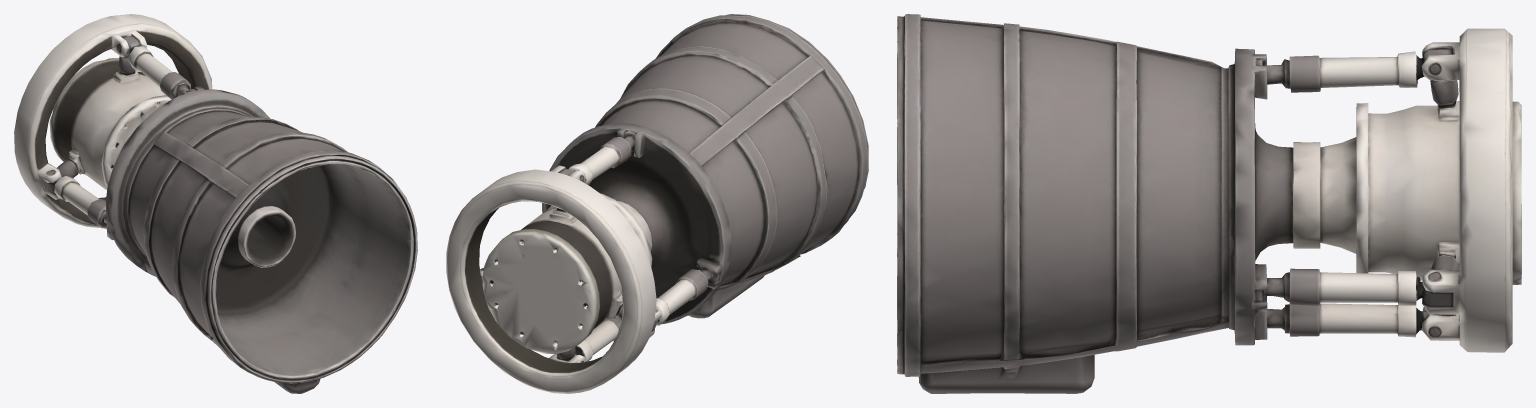
The model's file is bell.glb.
3 renders of one model, left to right at view 1: azimuth 30°, elevation 25°; view 2: azimuth 150°, elevation 25°; view 3: azimuth 270°, elevation 25°, orthographic. The views are drawn at different scales.
Visible parts, largest first — view 1: tripo_node_c430715c-5291-4ae3-b64c-0a46b896a1e6; view 2: tripo_node_c430715c-5291-4ae3-b64c-0a46b896a1e6; view 3: tripo_node_c430715c-5291-4ae3-b64c-0a46b896a1e6.
Boxes of the visible parts, bbox=[...] form: tripo_node_c430715c-5291-4ae3-b64c-0a46b896a1e6: bbox=[14, 14, 417, 393]; tripo_node_c430715c-5291-4ae3-b64c-0a46b896a1e6: bbox=[446, 14, 868, 393]; tripo_node_c430715c-5291-4ae3-b64c-0a46b896a1e6: bbox=[897, 14, 1521, 393].
Bounding box in the file's own units: 4.81 × 5.26 × 8.3.
Materials: 1 (1 with a texture image).
